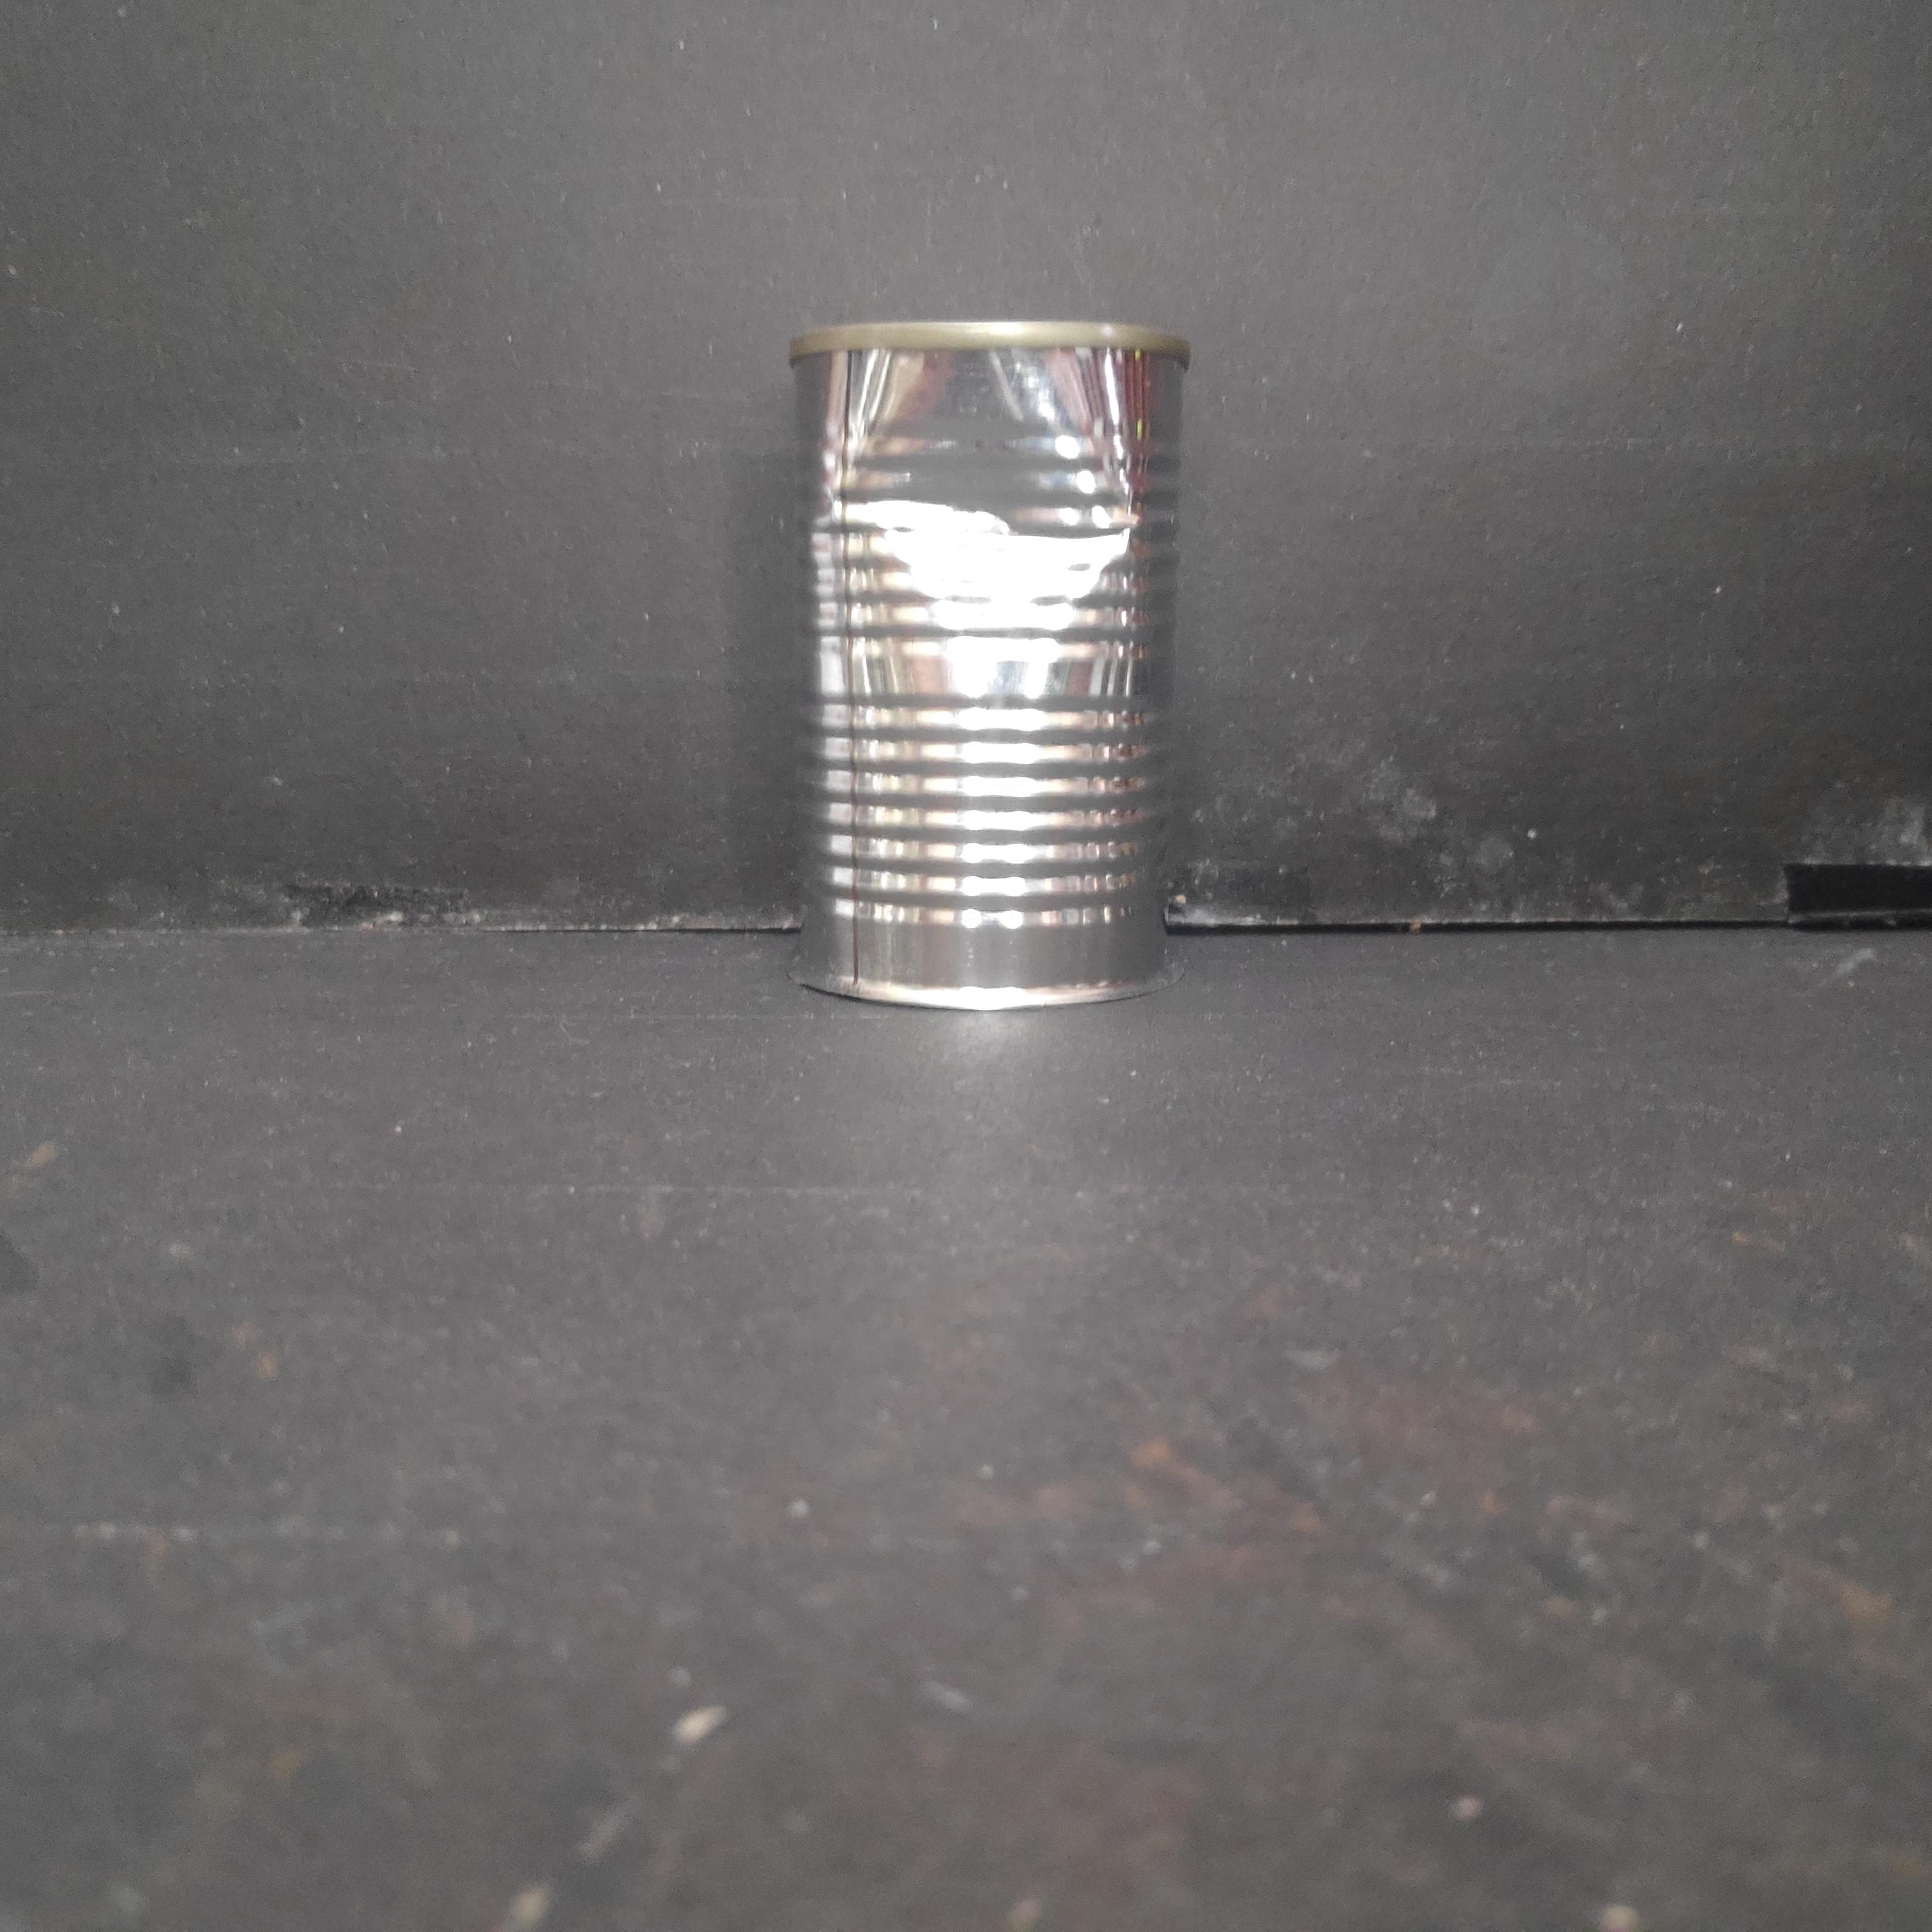Minor Defect: (780, 301, 1201, 1024)
